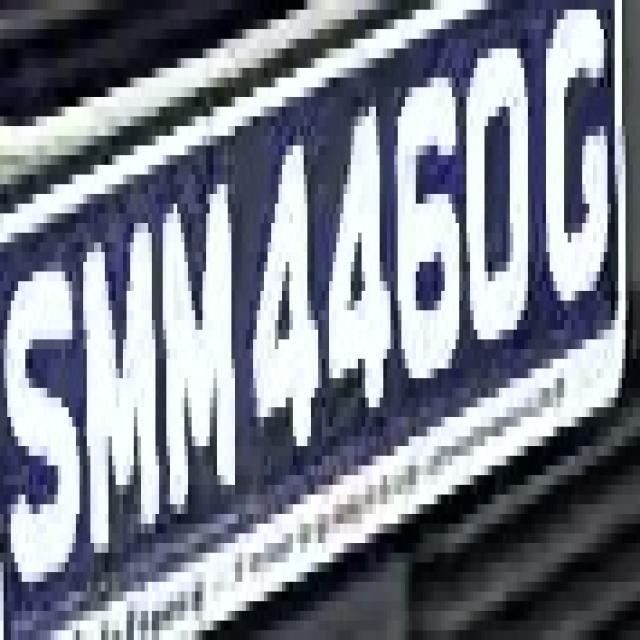0: (452, 19, 539, 388)
4: (235, 107, 333, 494), (304, 78, 391, 456)
6: (387, 29, 466, 427)
G: (542, 0, 622, 330)
M: (152, 165, 246, 572), (72, 184, 163, 592)
S: (4, 223, 83, 592)
